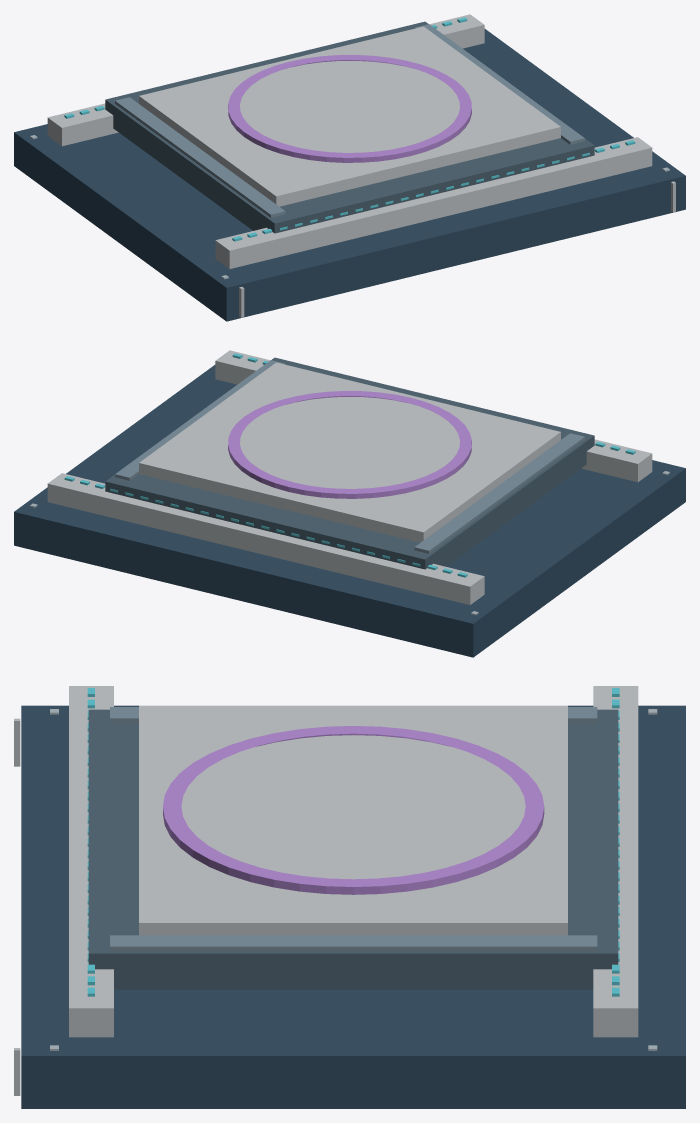
The model's file is 20_L74_PrecisionReticleMotionStage.glb.
3 renders of one model, top to bottom at view 1: azimuth 30°, elevation 25°; view 2: azimuth 150°, elevation 25°; view 3: azimuth 270°, elevation 25°, orthographic. The views are drawn at different scales.
Parts seen in each view (by area): view 1: PrecisionReticleMotionStage_Node_0000, PrecisionReticleMotionStage_Node_0066, PrecisionReticleMotionStage_Node_0063, PrecisionReticleMotionStage_Node_0035, PrecisionReticleMotionStage_Node_0067, PrecisionReticleMotionStage_Node_0007, PrecisionReticleMotionStage_Node_0064, PrecisionReticleMotionStage_Node_0065; view 2: PrecisionReticleMotionStage_Node_0000, PrecisionReticleMotionStage_Node_0066, PrecisionReticleMotionStage_Node_0063, PrecisionReticleMotionStage_Node_0007, PrecisionReticleMotionStage_Node_0067, PrecisionReticleMotionStage_Node_0035, PrecisionReticleMotionStage_Node_0064, PrecisionReticleMotionStage_Node_0065; view 3: PrecisionReticleMotionStage_Node_0000, PrecisionReticleMotionStage_Node_0066, PrecisionReticleMotionStage_Node_0063, PrecisionReticleMotionStage_Node_0067, PrecisionReticleMotionStage_Node_0007, PrecisionReticleMotionStage_Node_0035, PrecisionReticleMotionStage_Node_0065, PrecisionReticleMotionStage_Node_0064.
Boxes of the visible parts, left/top/right/bottom form: PrecisionReticleMotionStage_Node_0000: left=14, top=29, right=685, bottom=321; PrecisionReticleMotionStage_Node_0066: left=139, top=26, right=560, bottom=206; PrecisionReticleMotionStage_Node_0063: left=105, top=21, right=594, bottom=233; PrecisionReticleMotionStage_Node_0035: left=215, top=137, right=652, bottom=268; PrecisionReticleMotionStage_Node_0067: left=228, top=55, right=471, bottom=162; PrecisionReticleMotionStage_Node_0007: left=47, top=14, right=484, bottom=146; PrecisionReticleMotionStage_Node_0064: left=115, top=97, right=285, bottom=217; PrecisionReticleMotionStage_Node_0065: left=414, top=24, right=584, bottom=144; PrecisionReticleMotionStage_Node_0000: left=14, top=365, right=685, bottom=657; PrecisionReticleMotionStage_Node_0066: left=139, top=362, right=560, bottom=542; PrecisionReticleMotionStage_Node_0063: left=105, top=357, right=594, bottom=569; PrecisionReticleMotionStage_Node_0007: left=47, top=473, right=484, bottom=604; PrecisionReticleMotionStage_Node_0067: left=228, top=391, right=471, bottom=498; PrecisionReticleMotionStage_Node_0035: left=215, top=350, right=652, bottom=482; PrecisionReticleMotionStage_Node_0064: left=414, top=433, right=584, bottom=553; PrecisionReticleMotionStage_Node_0065: left=115, top=360, right=285, bottom=480; PrecisionReticleMotionStage_Node_0000: left=21, top=705, right=685, bottom=1108; PrecisionReticleMotionStage_Node_0066: left=139, top=705, right=567, bottom=935; PrecisionReticleMotionStage_Node_0063: left=88, top=709, right=618, bottom=989; PrecisionReticleMotionStage_Node_0067: left=163, top=726, right=544, bottom=894; PrecisionReticleMotionStage_Node_0007: left=593, top=686, right=638, bottom=1037; PrecisionReticleMotionStage_Node_0035: left=69, top=686, right=113, bottom=1037; PrecisionReticleMotionStage_Node_0065: left=110, top=935, right=597, bottom=951; PrecisionReticleMotionStage_Node_0064: left=110, top=707, right=597, bottom=722.
Size of the model in its own units: 3.13 by 0.53 by 2.54.
